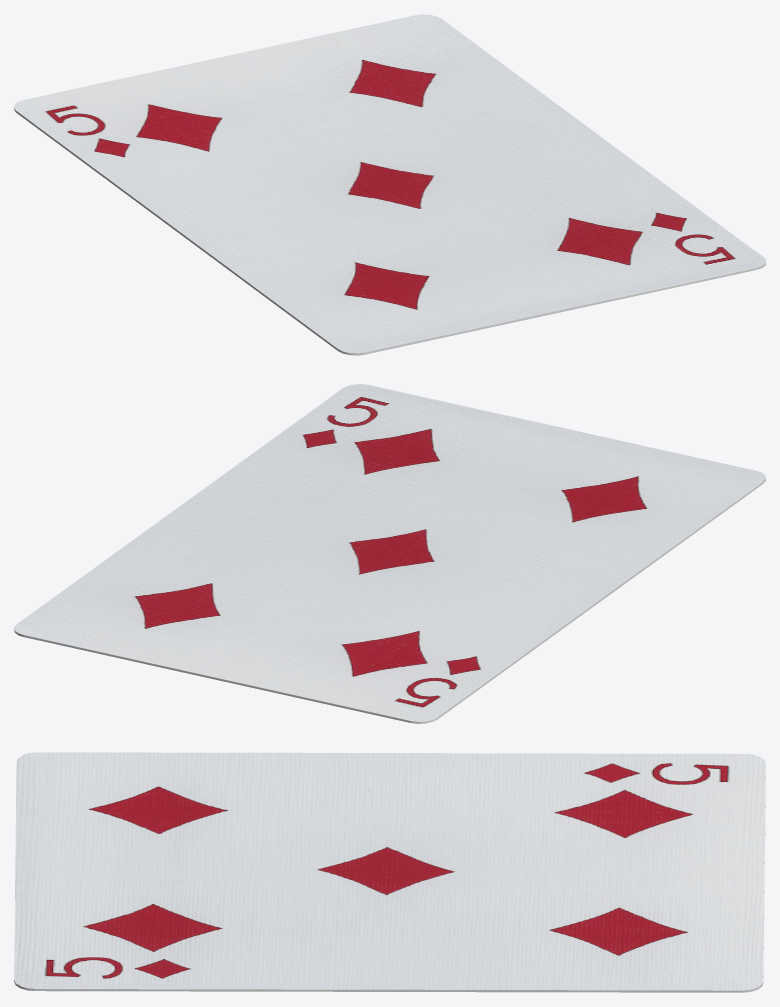
The model's file is diamonds5.fbx.
3 renders of one model, top to bottom at view 1: azimuth 30°, elevation 25°; view 2: azimuth 150°, elevation 25°; view 3: azimuth 270°, elevation 25°, orthographic. The views are drawn at different scales.
Parts seen in each view (by area): view 1: Diamonds_5_6; view 2: Diamonds_5_6; view 3: Diamonds_5_6.
Part boxes in pixels (x1,y1,x2,y2): Diamonds_5_6: (14,14,765,355); Diamonds_5_6: (14,384,765,723); Diamonds_5_6: (14,752,765,992).
Bounding box in the file's own units: 6.3 × 0.1786 × 8.83.
